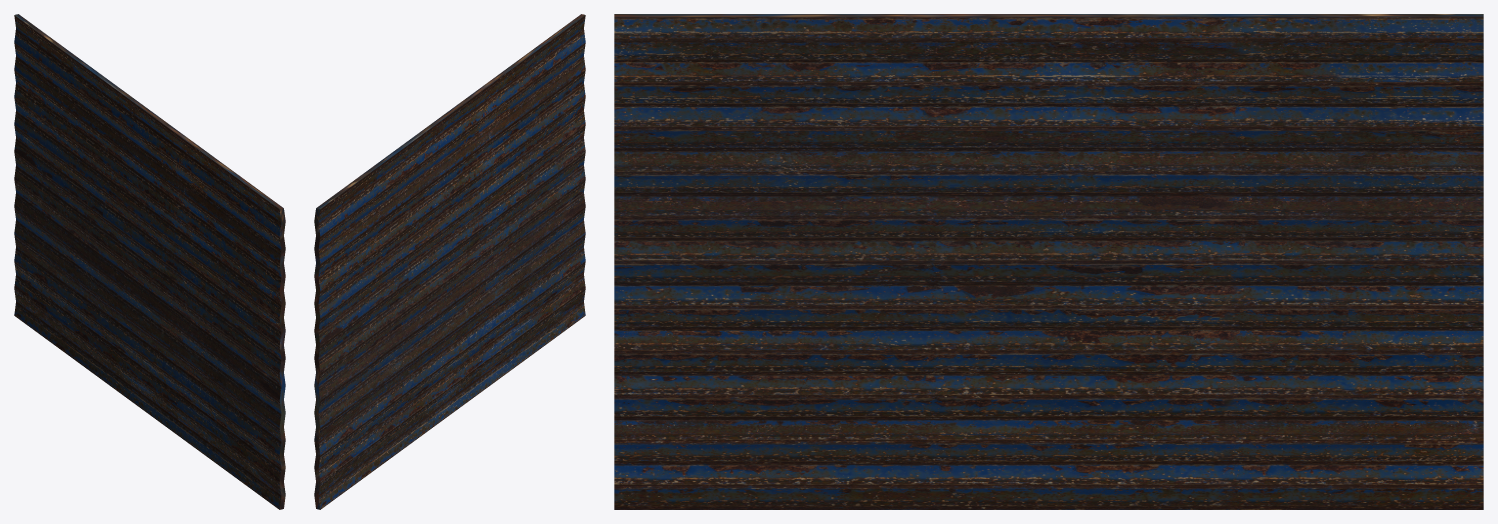
File: PuertaGarage.fbx
The picture shows the model from 3 angles, left to right: view 1: azimuth 30°, elevation 25°; view 2: azimuth 150°, elevation 25°; view 3: azimuth 270°, elevation 25°; orthographic projection. The views are drawn at different scales.
Visible parts, largest first — view 1: Concreto.064; view 2: Concreto.064; view 3: Concreto.064.
Part boxes in pixels (x1,y1,x2,y2): Concreto.064: (14,14,285,509); Concreto.064: (314,14,585,509); Concreto.064: (614,14,1483,509).
Size of the model in its own units: 10.57 by 500 by 800.
